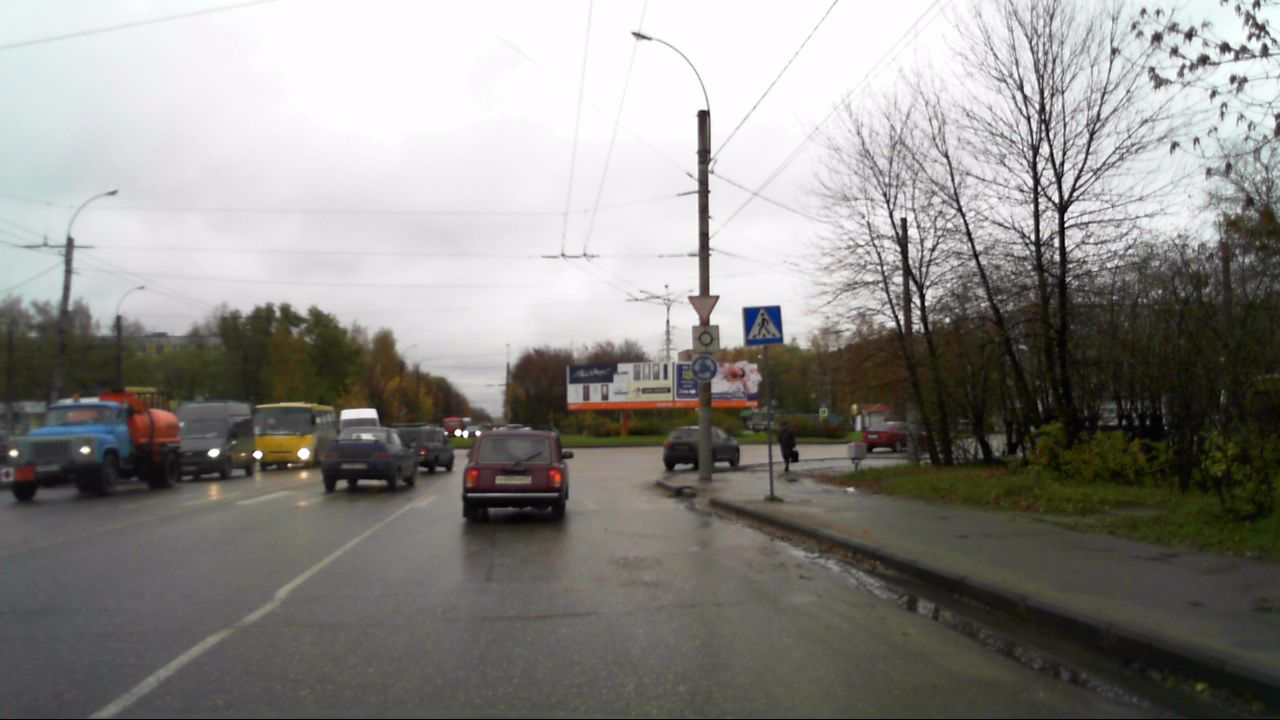Round-About: (688, 355, 717, 383)
